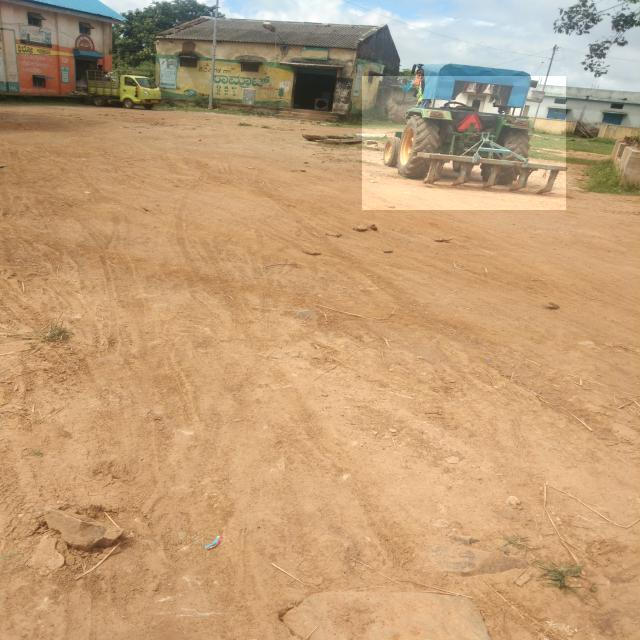Tractot: (362, 76, 566, 210)
